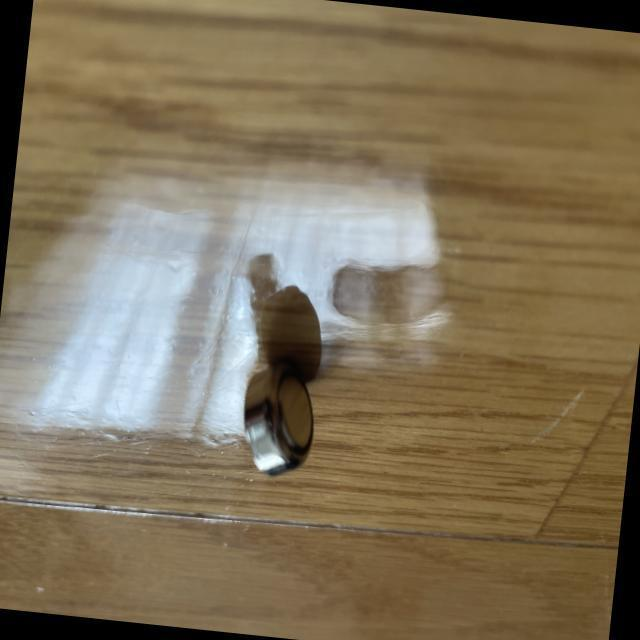COIN: (228, 351, 323, 481)
